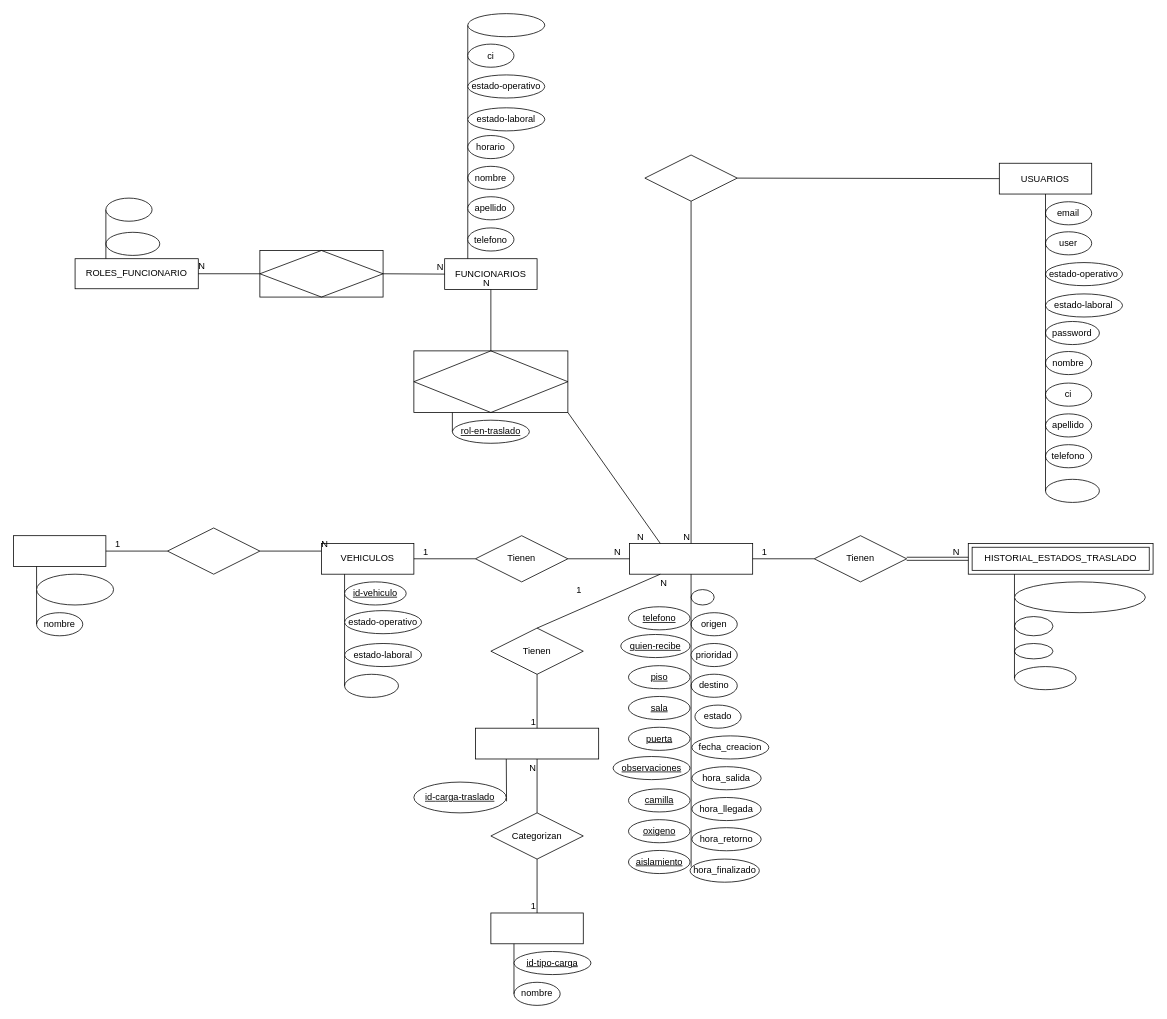
The diagram is 1167 pixels wide and 1019 high, and some of its shapes have lost their labels. The shapes that lost their labels are listed below. From the top down, each one's centre as x and y in pixels, then its label:
the point at 506,25: id-funcionario
the point at 690,177: Solicitan
the point at 128,209: id-rol
the point at 132,243: rol-nombre
the point at 321,273: FUNCIONARIO-ROL
the point at 490,381: TRASLADO-FUNCIONARIO
the point at 1072,490: id-usuario
the point at 59,550: TIPOS_VEHICULO
the point at 213,550: Clasifican
the point at 691,558: TRASLADOS
the point at 75,589: id-tipo-vehiculo
the point at 702,597: id
the point at 1079,597: id-historal-estado-traslado
the point at 1033,626: fecha
the point at 1033,651: hora
the point at 371,685: matricula
the point at 1045,678: comentario
the point at 537,743: CARGAS_TRASLADO
the point at 536,928: TIPOS_CARGA
